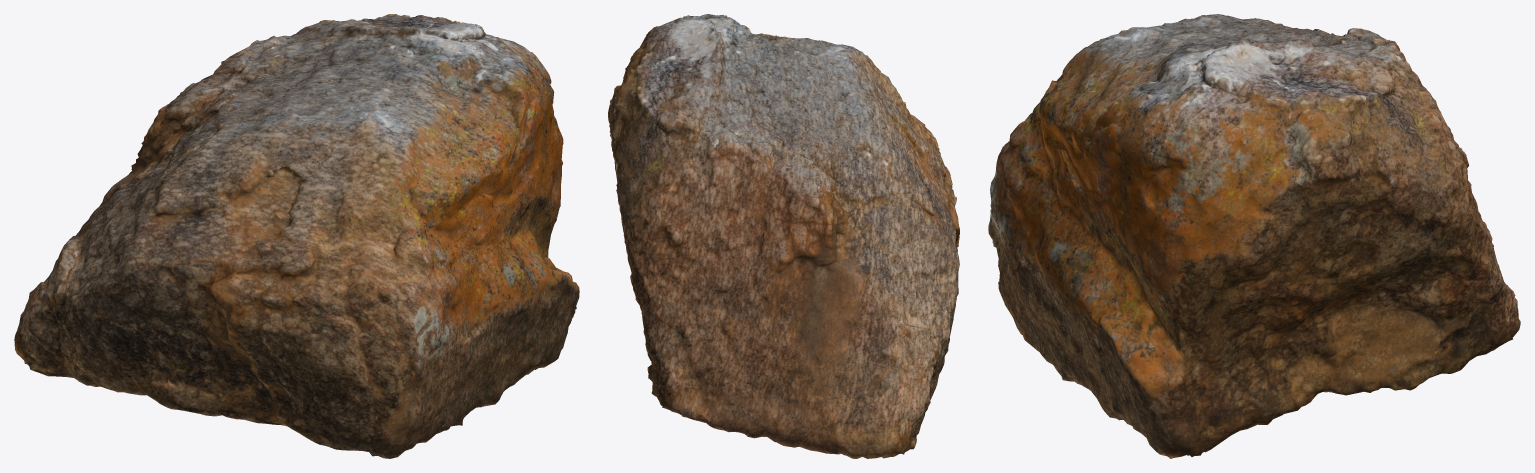
File: namaqualand_boulder_04_ice.glb
3 renders of one model, left to right at view 1: azimuth 30°, elevation 25°; view 2: azimuth 150°, elevation 25°; view 3: azimuth 270°, elevation 25°, orthographic. The views are drawn at different scales.
Parts seen in each view (by area): view 1: boulder_04; view 2: boulder_04; view 3: boulder_04.
Part boxes in pixels (box(x1,y1,x2,y2)): boulder_04: box(14, 14, 579, 458); boulder_04: box(608, 14, 959, 458); boulder_04: box(988, 14, 1520, 458).
Size of the model in its own units: 2.52 by 1.9 by 2.5.
1 material, 1 textured.
